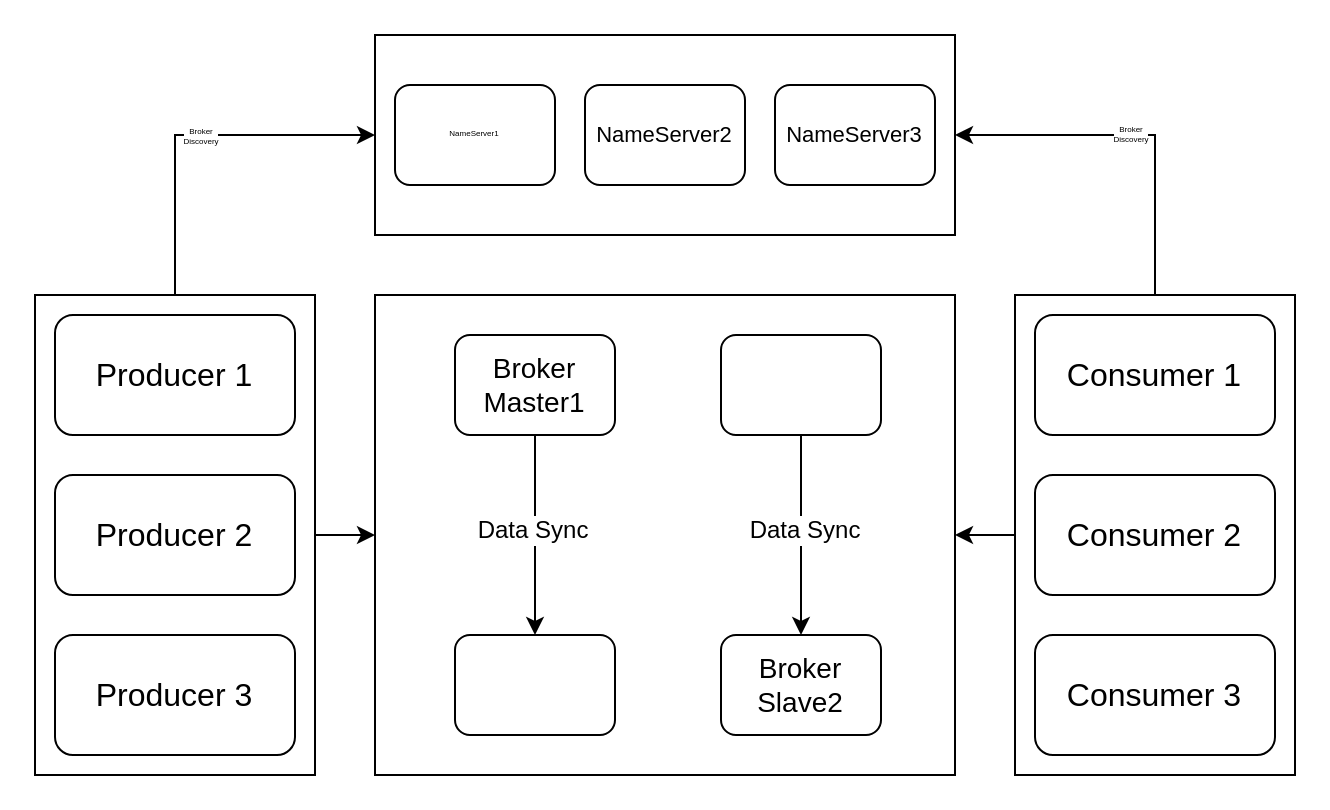
The diagram is 1330 pixels wide and 810 high, and some of its shapes have lost their labels. The centre of each missing label's shape, as x and y in pixels:
"Broker Master2" belongs at point (800, 384).
"Broker Slave1" belongs at point (534, 684).
